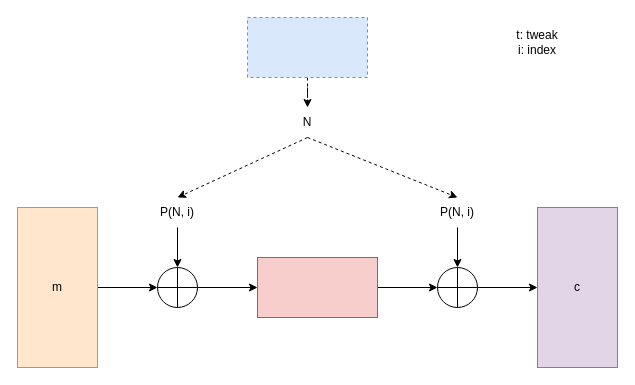
The diagram is 635 pixels wide and 385 high, and some of its shapes have lost their labels. The centre of each missing label's shape, as x and y in pixels:
"E(k_1, .)" goes at (x=317, y=287).
"E(k_2, t)" goes at (x=307, y=47).
